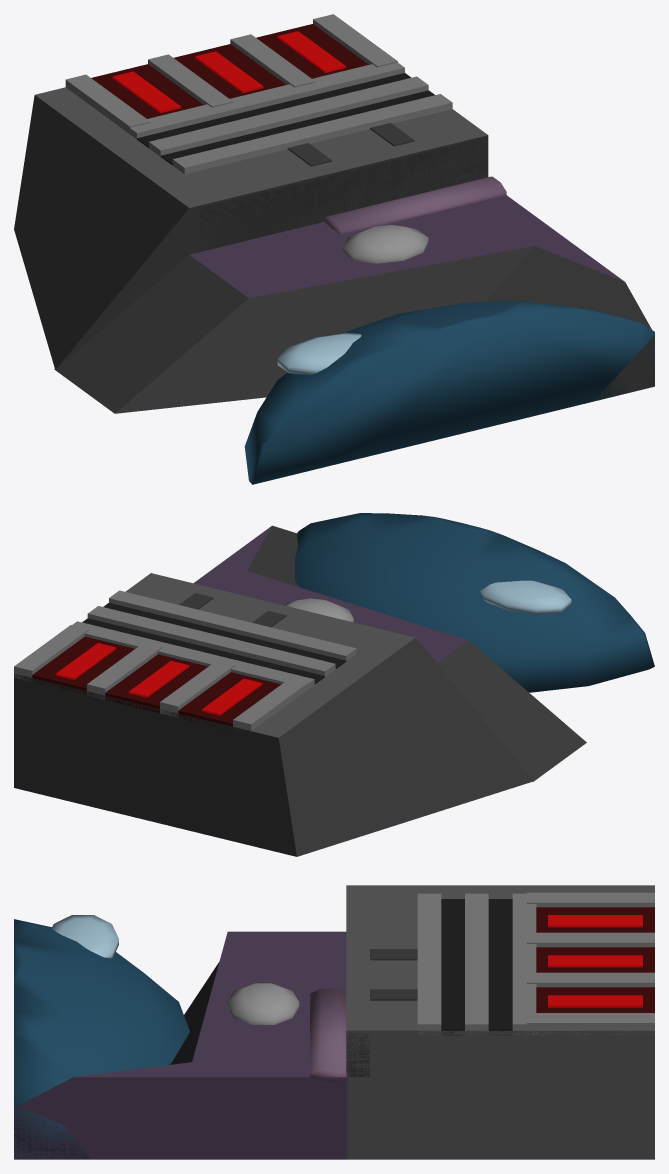
The model's file is newshb-6.glb.
The picture shows the model from 3 angles, top to bottom: view 1: azimuth 30°, elevation 25°; view 2: azimuth 150°, elevation 25°; view 3: azimuth 270°, elevation 25°; orthographic projection. The views are drawn at different scales.
Parts seen in each view (by area): view 1: newshb-6; view 2: newshb-6; view 3: newshb-6.
Part boxes in pixels (bbox=[...]): newshb-6: bbox=[14, 14, 654, 484]; newshb-6: bbox=[14, 513, 654, 856]; newshb-6: bbox=[14, 885, 654, 1159].
Bounding box in the file's own units: 1.75 × 0.53 × 2.25.
